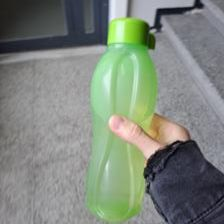bottle: (82, 17, 161, 221)
